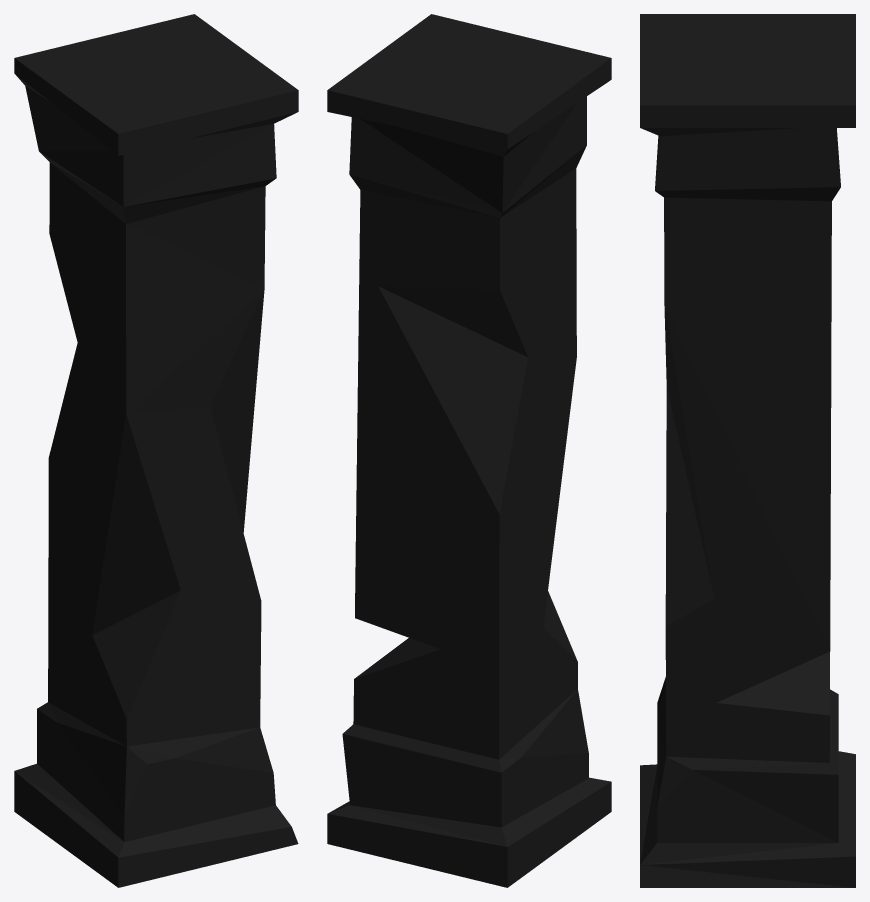
Rendered from Pillar_Square.fbx.
The picture shows the model from 3 angles, left to right: view 1: azimuth 30°, elevation 25°; view 2: azimuth 150°, elevation 25°; view 3: azimuth 270°, elevation 25°; orthographic projection. The views are drawn at different scales.
Visible parts, largest first — view 1: Pillar_Square; view 2: Pillar_Square; view 3: Pillar_Square.
Boxes of the visible parts, left/top/right/bottom form: Pillar_Square: left=14, top=14, right=298, bottom=887; Pillar_Square: left=327, top=14, right=611, bottom=887; Pillar_Square: left=640, top=14, right=855, bottom=887.
Bounding box in the file's own units: 200 × 800 × 200.
